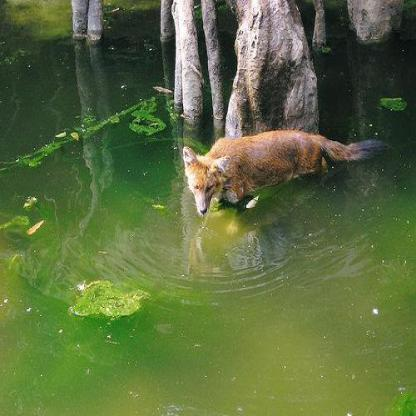dhole: (180, 128, 388, 215)
